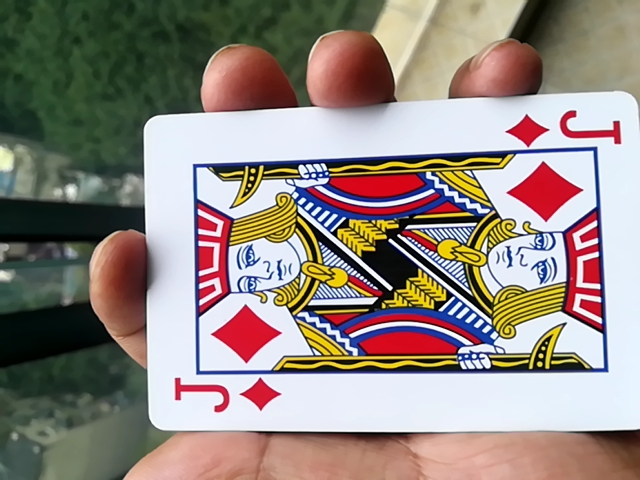fk j: (124, 111, 637, 449)
